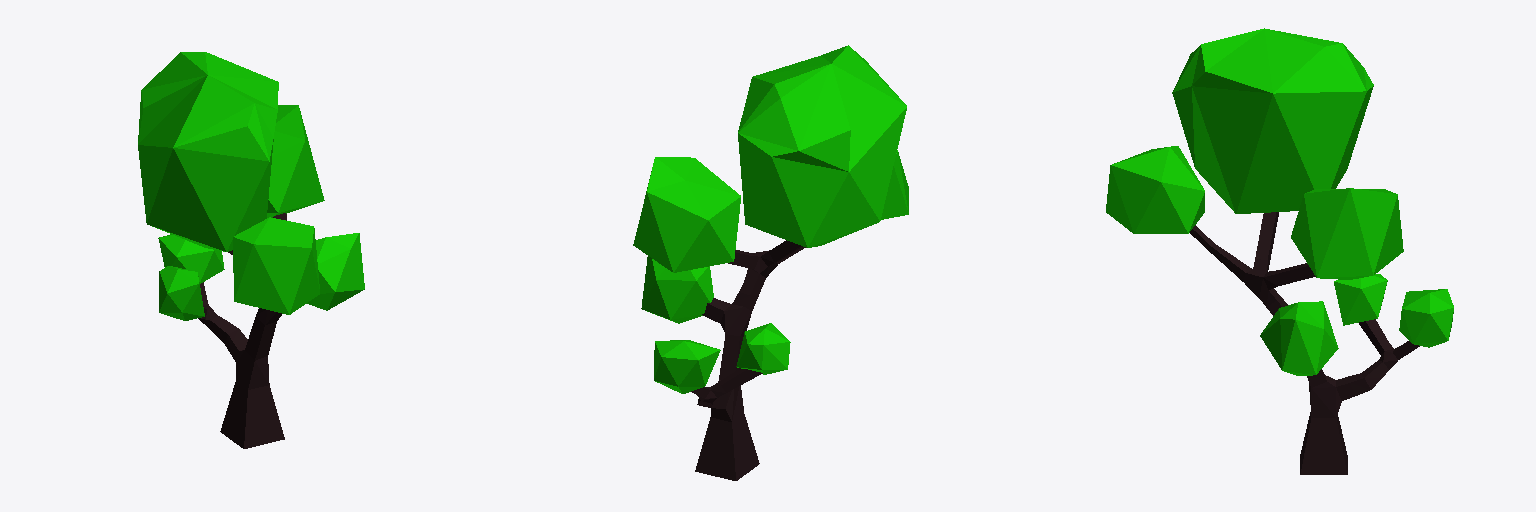
File: dtree3B(F423).obj
3 views of the same model, side by side, from view 1: azimuth 30°, elevation 25°; view 2: azimuth 150°, elevation 25°; view 3: azimuth 270°, elevation 25° (orthographic).
Parts seen in each view (by area): view 1: Icosphere.080, Icosphere.081, Cube.020, Icosphere.079, Icosphere.082, Icosphere.070, Icosphere.078; view 2: Icosphere.080, Icosphere.079, Cube.020, Icosphere.082, Icosphere.078, Icosphere.070, Icosphere.081; view 3: Icosphere.080, Cube.020, Icosphere.079, Icosphere.081, Icosphere.082, Icosphere.078, Icosphere.070.
Boxes of the visible parts, x1,y1,x2,y2 form: Icosphere.080: [138, 52, 278, 251]; Icosphere.081: [233, 217, 319, 314]; Cube.020: [198, 213, 286, 448]; Icosphere.079: [267, 105, 324, 217]; Icosphere.082: [307, 233, 364, 310]; Icosphere.070: [159, 266, 204, 320]; Icosphere.078: [158, 234, 224, 283]; Icosphere.080: [738, 45, 906, 247]; Icosphere.079: [633, 157, 740, 272]; Cube.020: [691, 240, 805, 480]; Icosphere.082: [641, 256, 713, 323]; Icosphere.078: [654, 340, 720, 393]; Icosphere.070: [736, 323, 790, 374]; Icosphere.081: [881, 150, 908, 219]; Icosphere.080: [1172, 28, 1373, 213]; Cube.020: [1190, 212, 1419, 474]; Icosphere.079: [1291, 188, 1403, 279]; Icosphere.081: [1106, 146, 1204, 233]; Icosphere.082: [1260, 301, 1338, 375]; Icosphere.078: [1399, 289, 1453, 347]; Icosphere.070: [1334, 274, 1387, 325].
Bounding box in the file's own units: 1.42 × 2.44 × 1.92.